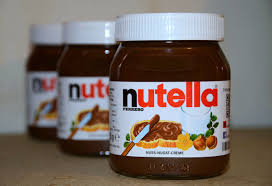nutella: (109, 12, 232, 180), (57, 19, 111, 157)
